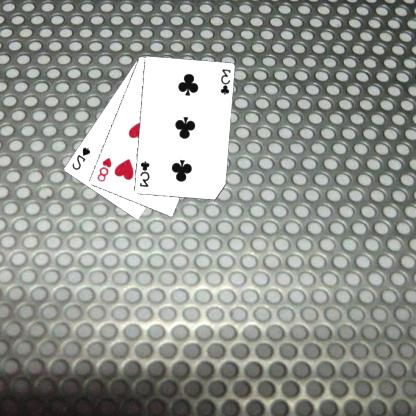2S: (71, 144, 93, 172)
3C: (219, 66, 234, 96), (138, 158, 152, 188)
8H: (96, 155, 114, 184)
